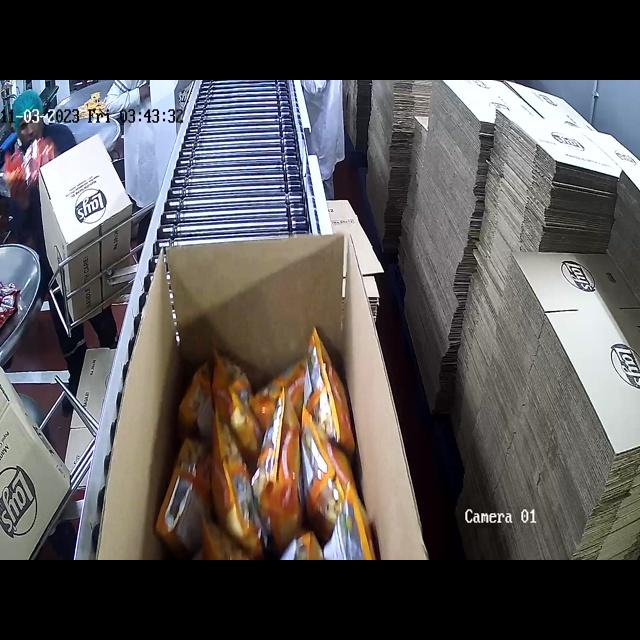cheese: (188, 351, 356, 560)
